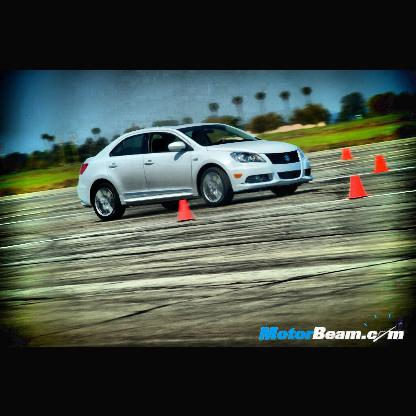Suzuki Kizashi Sedan 2012: (75, 119, 315, 222)
